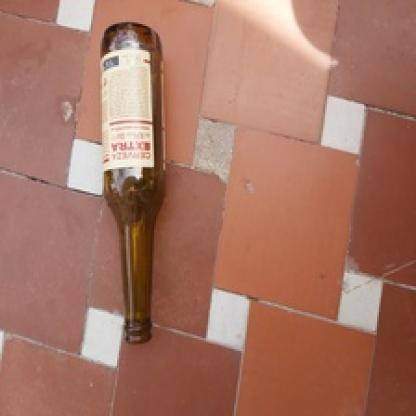Can: (78, 19, 178, 354)
